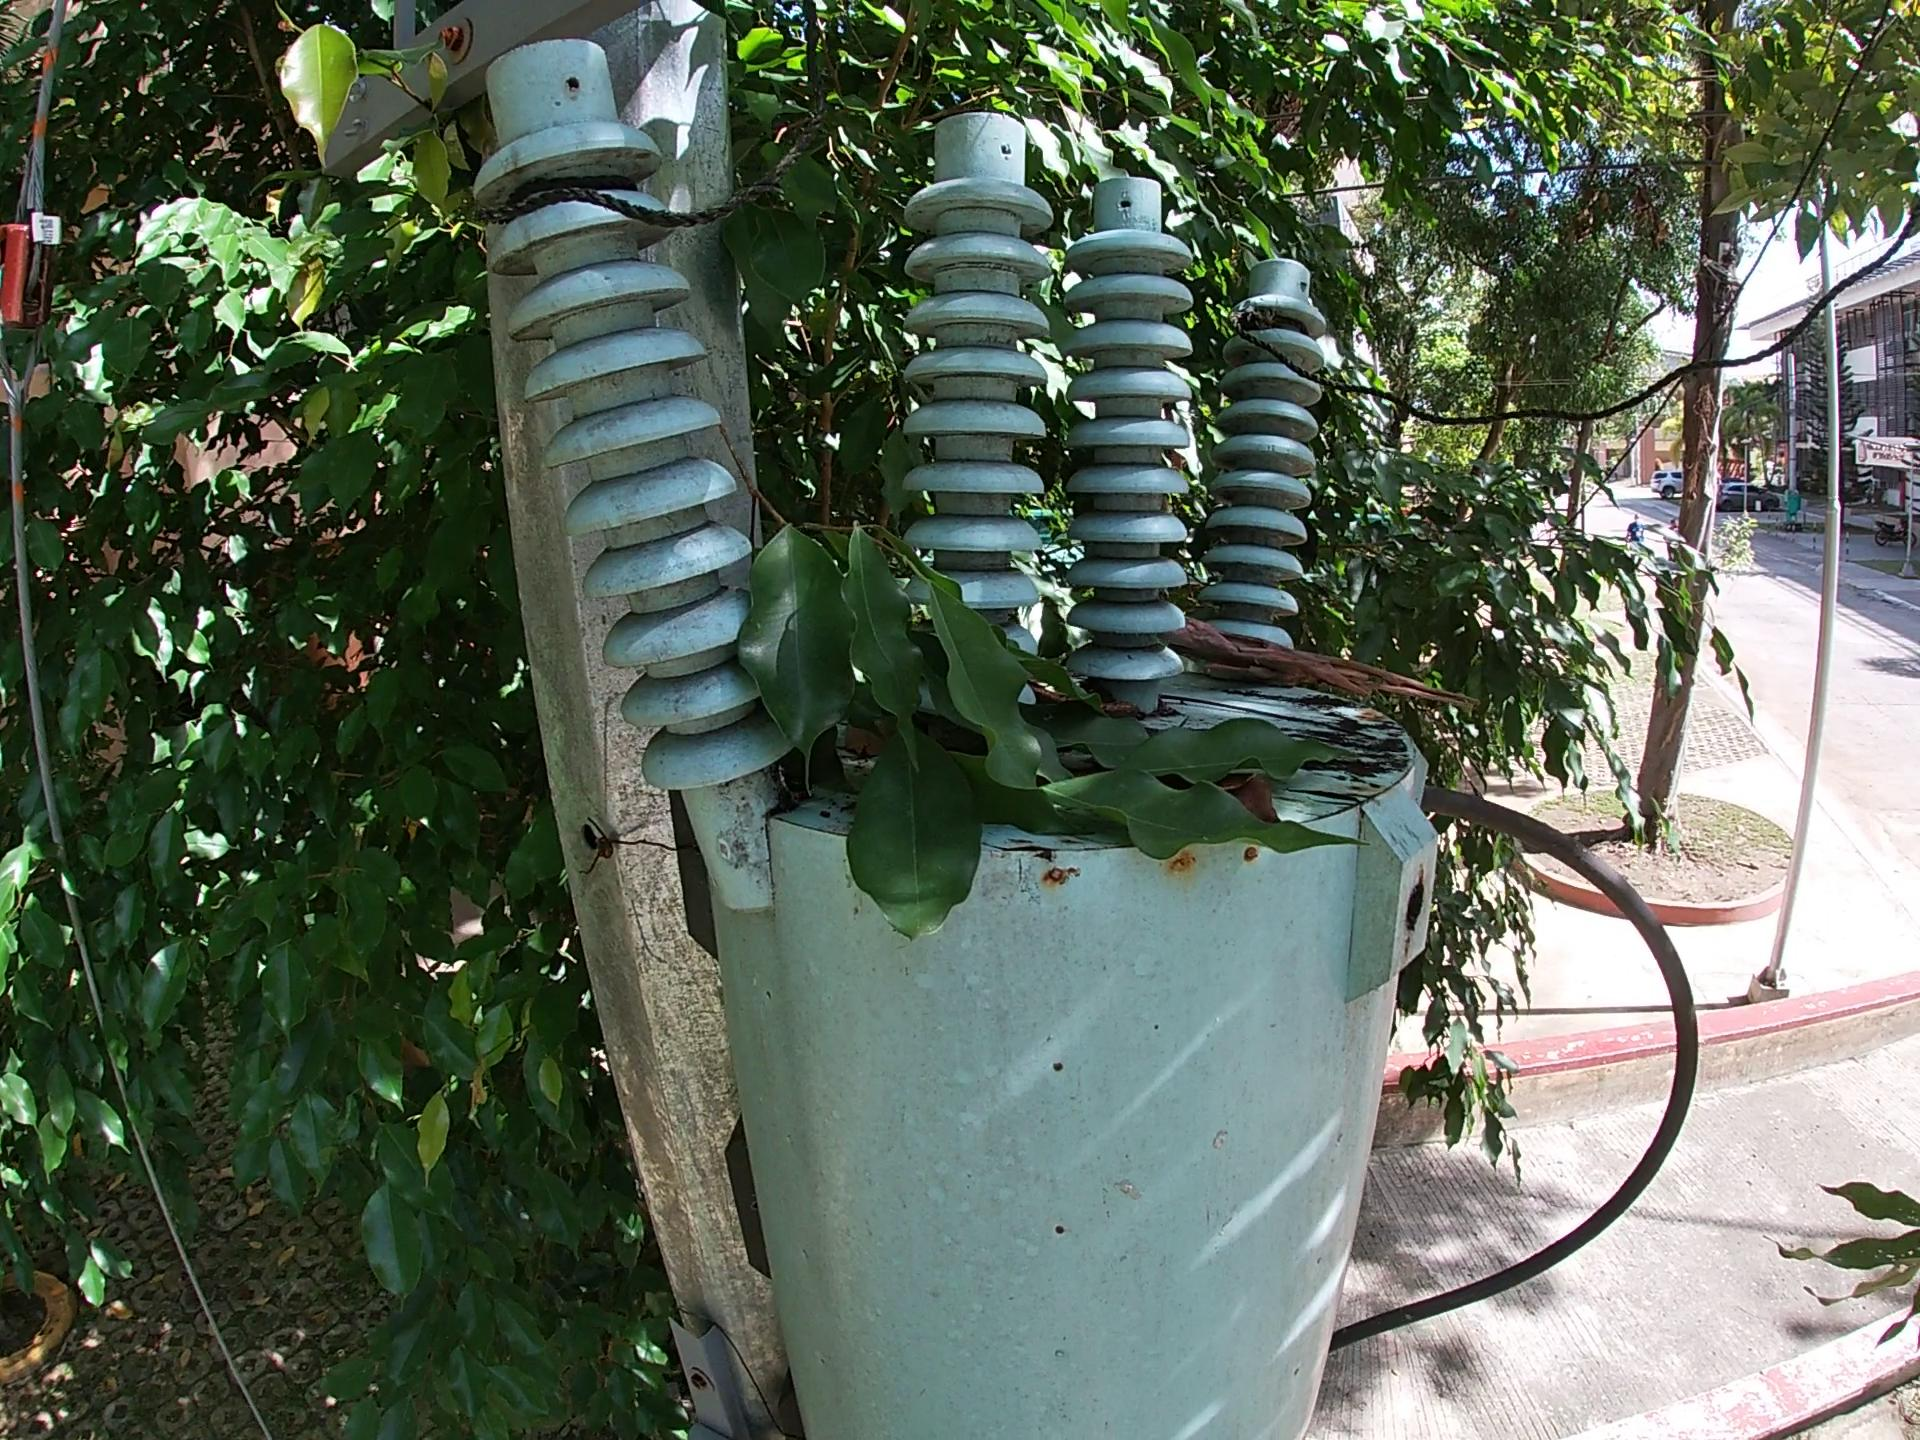branch with leaves: (677, 434, 1400, 917)
mahogany fruit: (1217, 785, 1293, 836), (1030, 690, 1141, 722)
tree branch: (1167, 628, 1488, 718), (1167, 696, 1367, 743)
